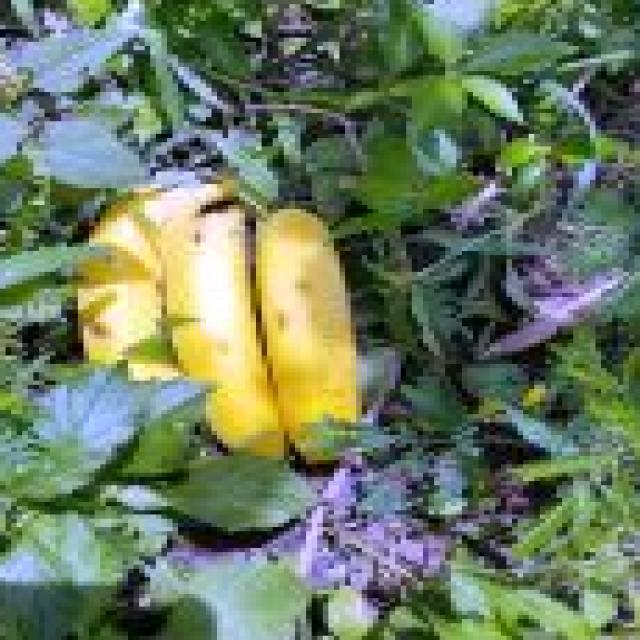Good_Banana-2-3 days: (78, 182, 359, 455)
